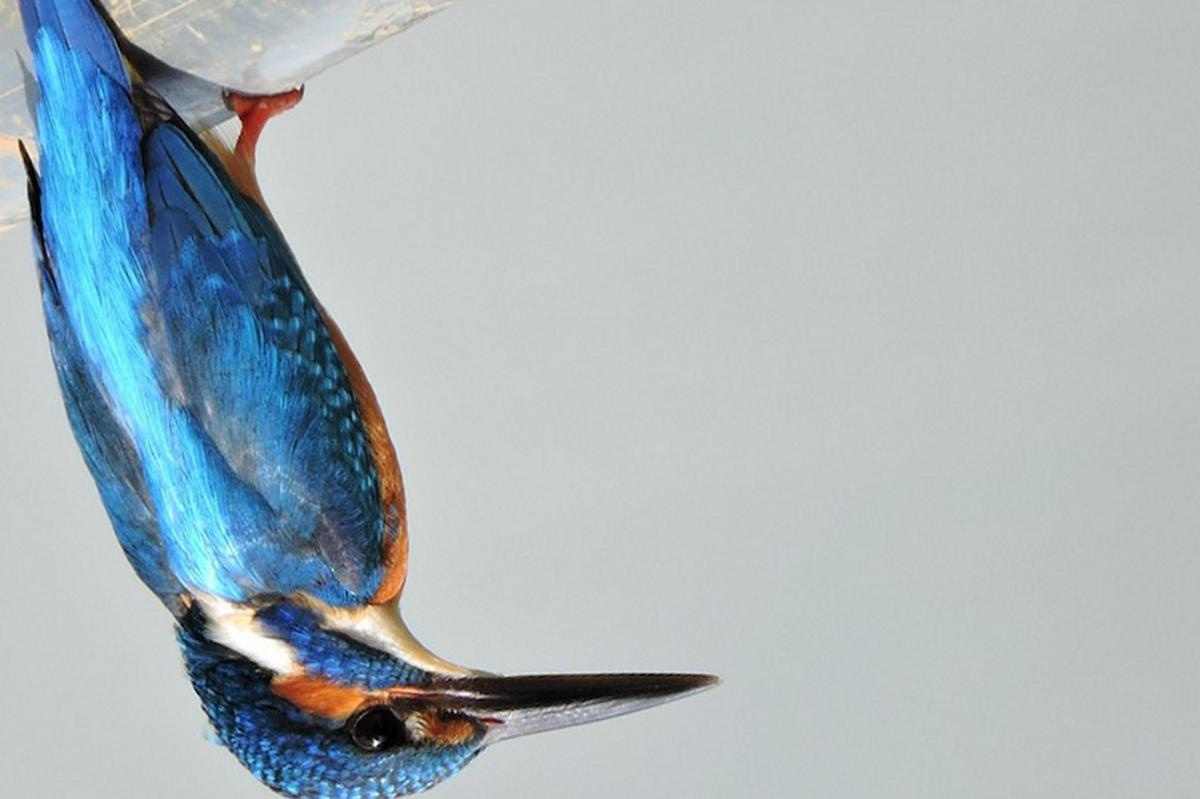kingfisher: (13, 1, 740, 782)
